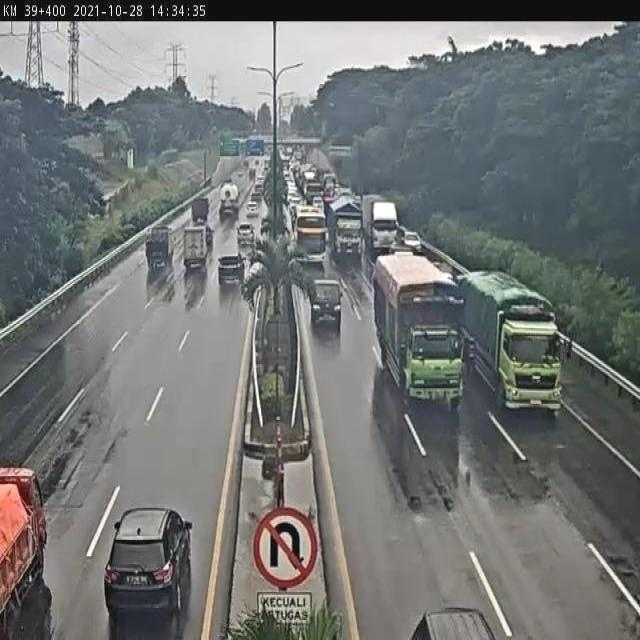Car: (405, 606, 501, 640), (306, 277, 342, 333), (218, 254, 245, 286), (237, 222, 255, 246)
Truck: (361, 234, 472, 415), (459, 270, 563, 414), (104, 505, 193, 634), (0, 467, 50, 638), (256, 284, 294, 381), (250, 429, 312, 484), (365, 200, 399, 263), (419, 278, 464, 319), (295, 205, 327, 261), (100, 176, 136, 218), (333, 214, 363, 263), (183, 223, 212, 270), (342, 262, 370, 307), (146, 262, 173, 304), (145, 225, 171, 268), (184, 268, 207, 310), (322, 186, 344, 227), (219, 182, 239, 218), (246, 260, 266, 295), (102, 133, 126, 162), (261, 446, 280, 482), (218, 275, 242, 303), (191, 196, 209, 226), (387, 240, 415, 258), (168, 226, 182, 262), (286, 147, 305, 172), (401, 230, 421, 253), (363, 251, 376, 286), (290, 162, 305, 192), (429, 259, 453, 277), (302, 170, 318, 196), (277, 136, 308, 149), (314, 170, 328, 198), (322, 175, 337, 200), (240, 240, 256, 260), (288, 202, 298, 231), (287, 188, 300, 210), (287, 233, 297, 261), (334, 188, 354, 202), (160, 148, 179, 162), (245, 200, 259, 218), (328, 146, 349, 158), (282, 215, 291, 242), (251, 187, 263, 207), (101, 191, 116, 207), (256, 154, 269, 172), (441, 271, 457, 285), (452, 271, 467, 285), (255, 173, 265, 193), (312, 194, 324, 210), (206, 225, 214, 248), (279, 150, 288, 170), (279, 119, 289, 137), (66, 101, 80, 113), (331, 183, 344, 195), (322, 118, 329, 140), (282, 166, 291, 183), (237, 139, 246, 156), (281, 188, 288, 208), (356, 193, 363, 210), (266, 142, 274, 156), (241, 166, 249, 180), (285, 146, 293, 159), (146, 227, 154, 240), (203, 176, 212, 187), (256, 142, 264, 154), (249, 167, 256, 180), (220, 141, 226, 155), (197, 170, 204, 180), (251, 129, 259, 137), (242, 159, 249, 168), (254, 158, 261, 167), (211, 125, 217, 135), (237, 172, 244, 178)
